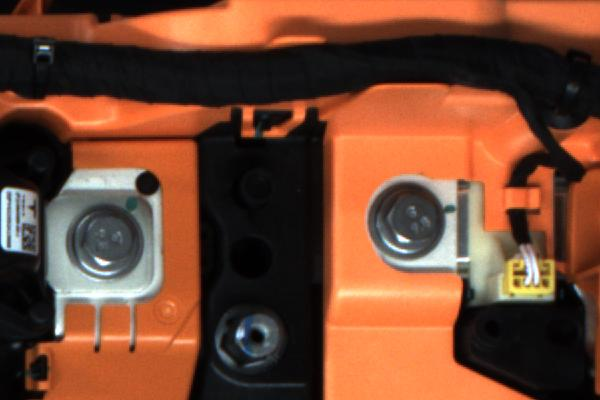nut_b: (360, 179, 453, 264), (63, 195, 157, 278)
